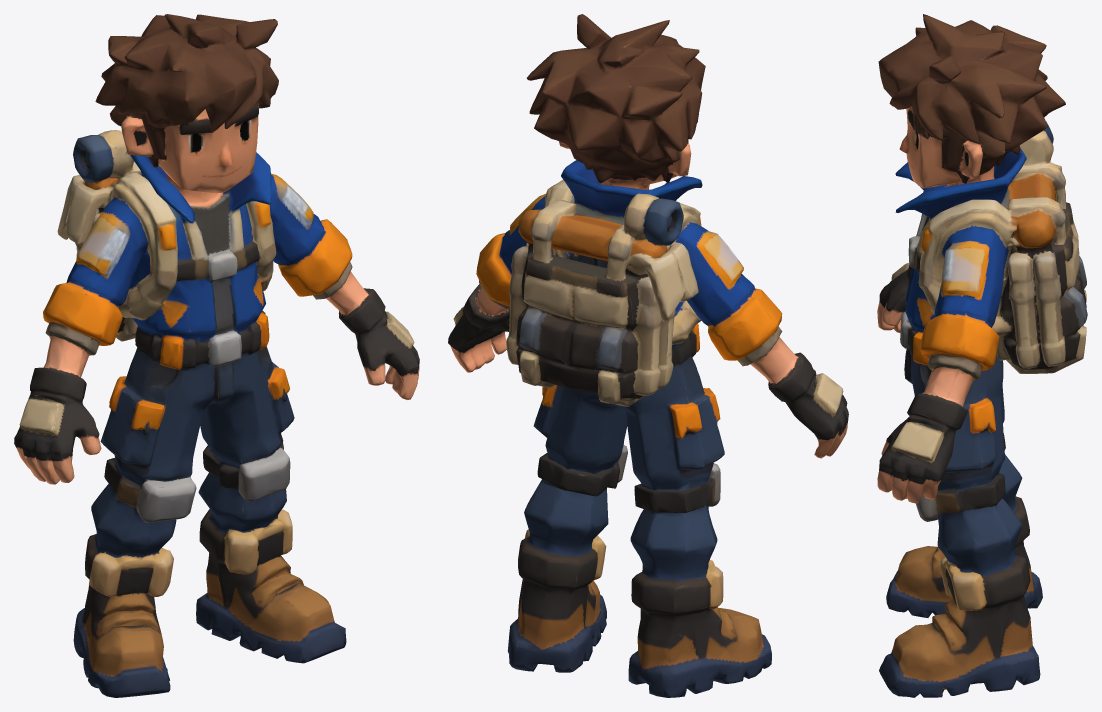
Rendered from raw.glb.
3 renders of one model, left to right at view 1: azimuth 30°, elevation 25°; view 2: azimuth 150°, elevation 25°; view 3: azimuth 270°, elevation 25°, orthographic. The views are drawn at different scales.
Parts seen in each view (by area): view 1: geometry_0; view 2: geometry_0; view 3: geometry_0.
Part boxes in pixels (<box>): geometry_0: <box>14,14,419,697</box>; geometry_0: <box>448,14,848,697</box>; geometry_0: <box>877,14,1087,697</box>.
Bounding box in the file's own units: 0.644 × 1 × 0.3081.
Materials: 1 (1 with a texture image).
